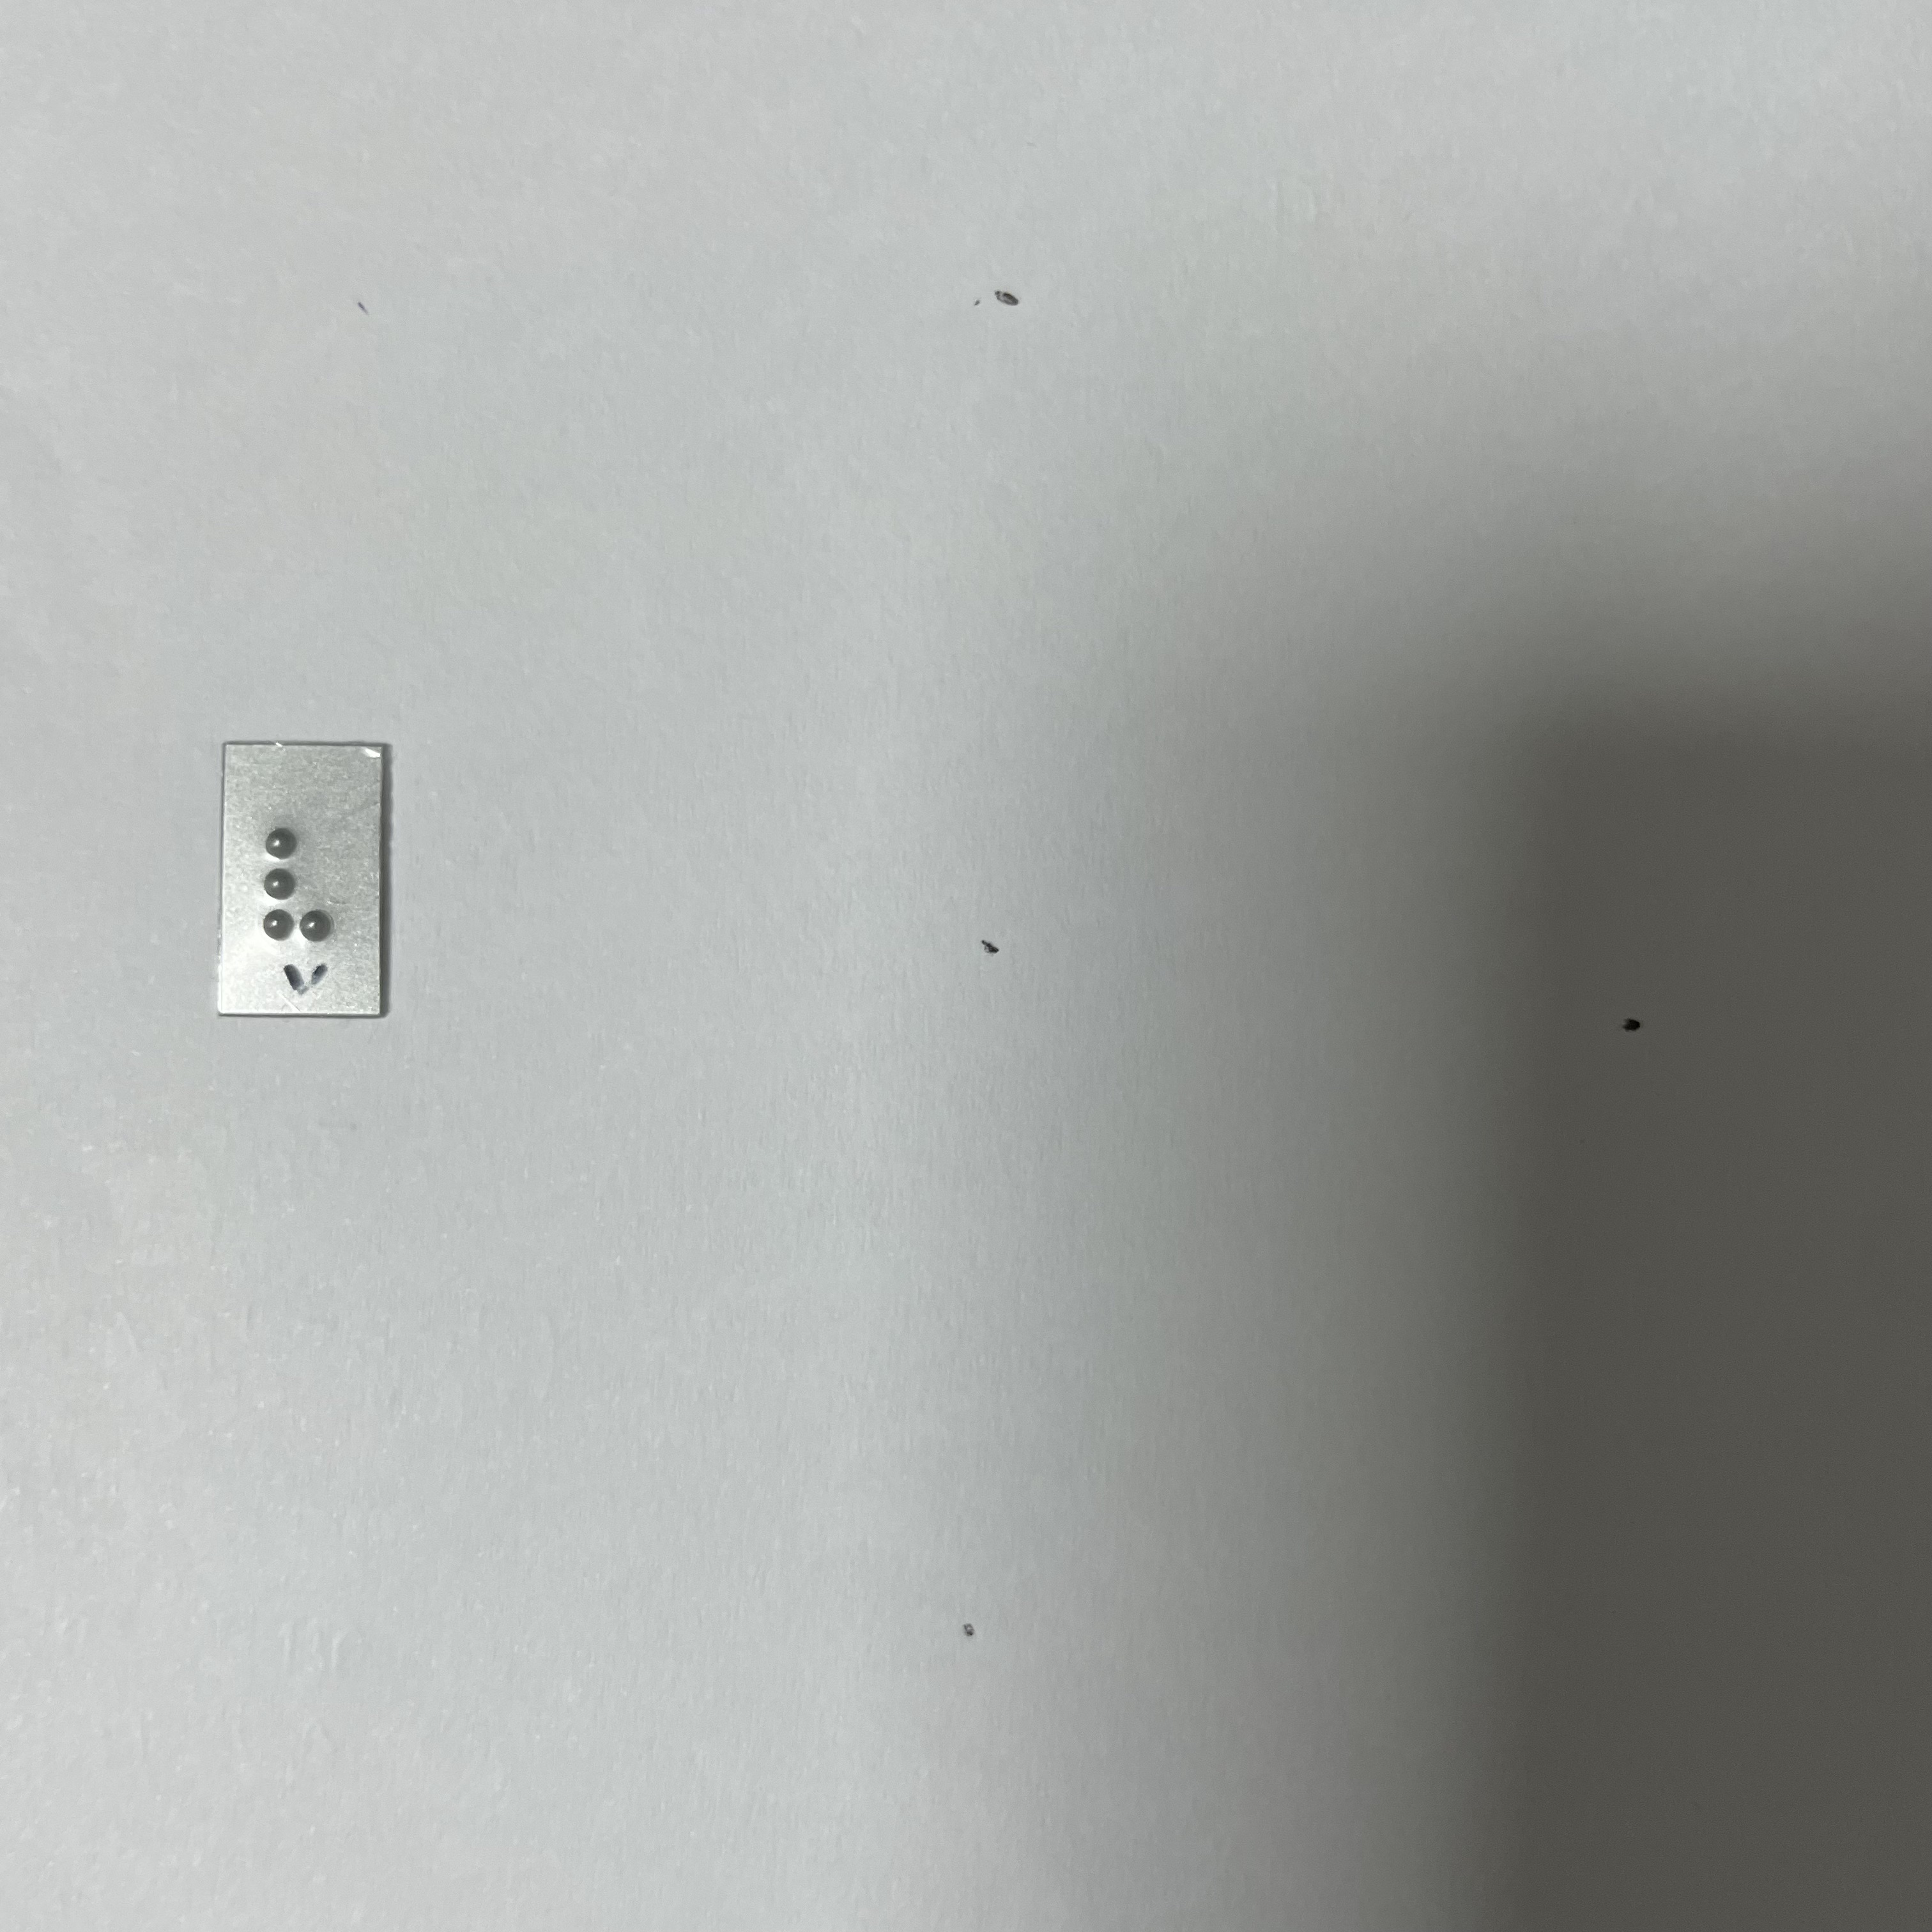v: (251, 816, 346, 956)
